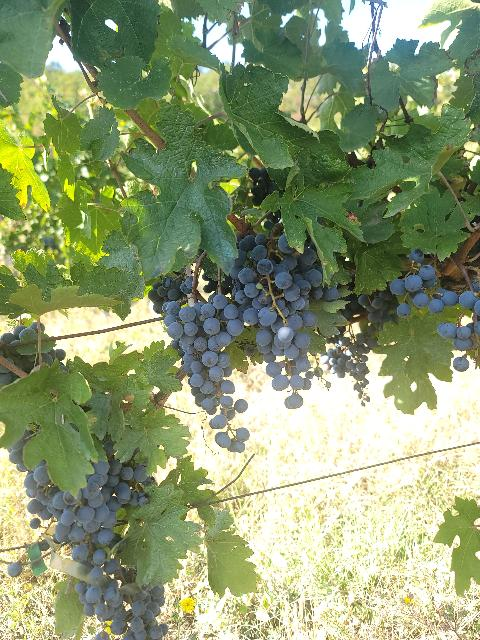grapes: (224, 234, 324, 409), (24, 460, 149, 571), (162, 295, 249, 451)
